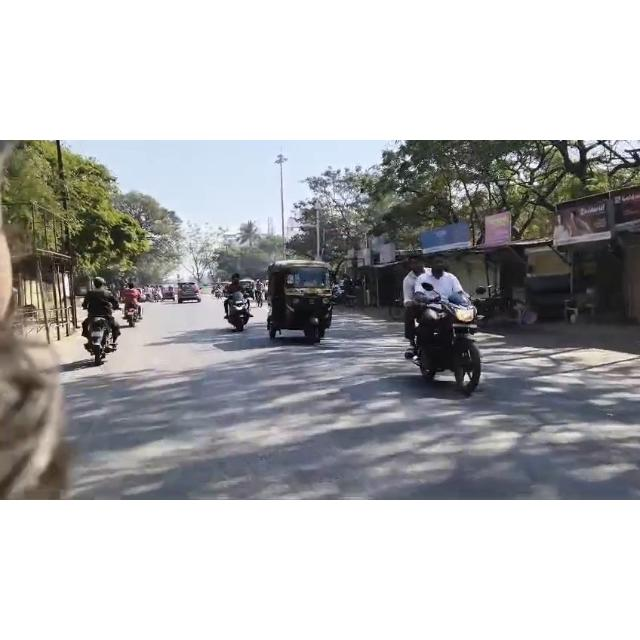auto: (268, 257, 342, 347), (240, 281, 258, 299), (161, 288, 177, 303)
car: (177, 279, 205, 304)
